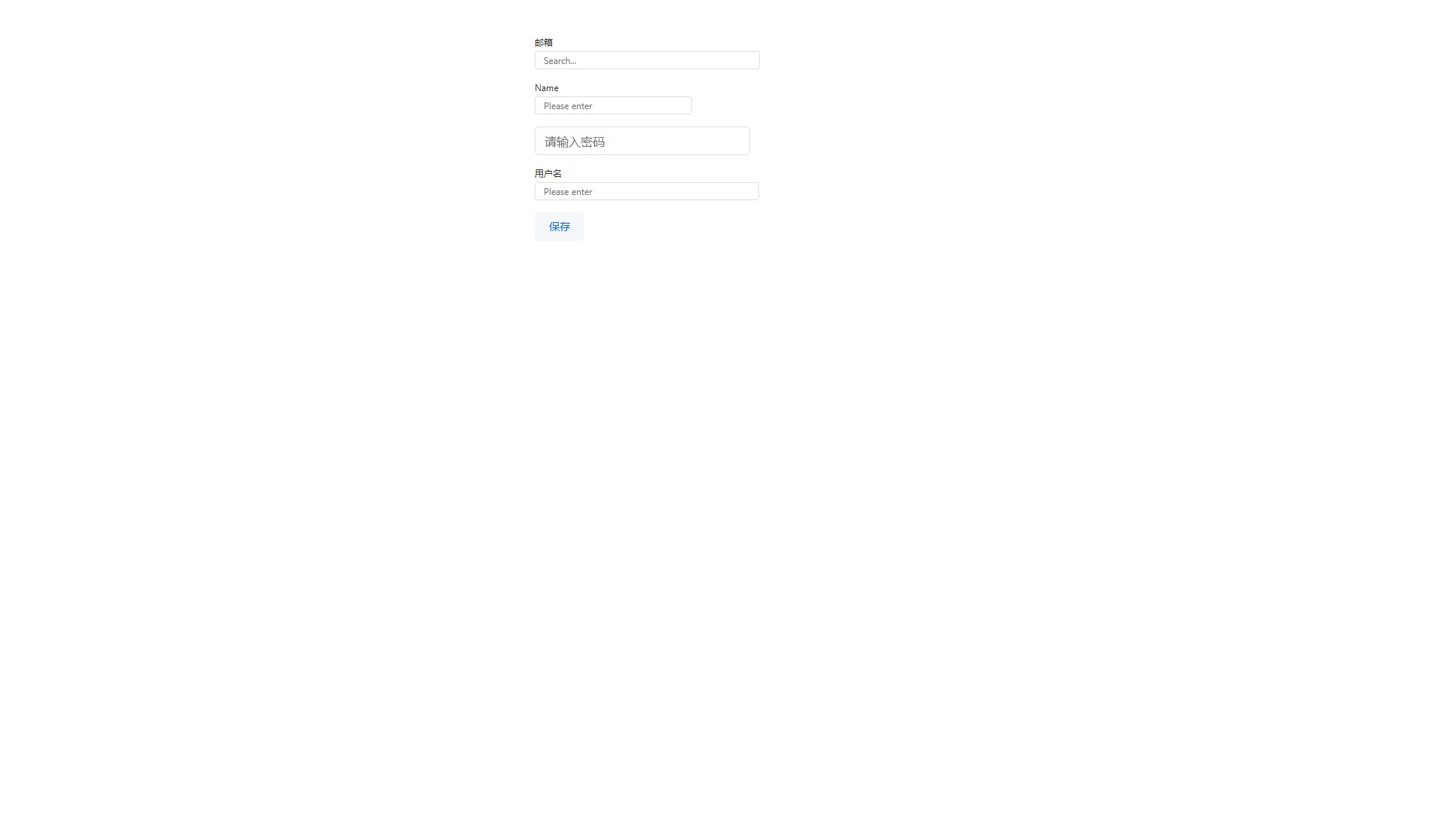button: (535, 212, 584, 241)
input: (535, 126, 750, 155), (535, 51, 760, 69), (535, 182, 759, 200), (535, 96, 692, 114)
